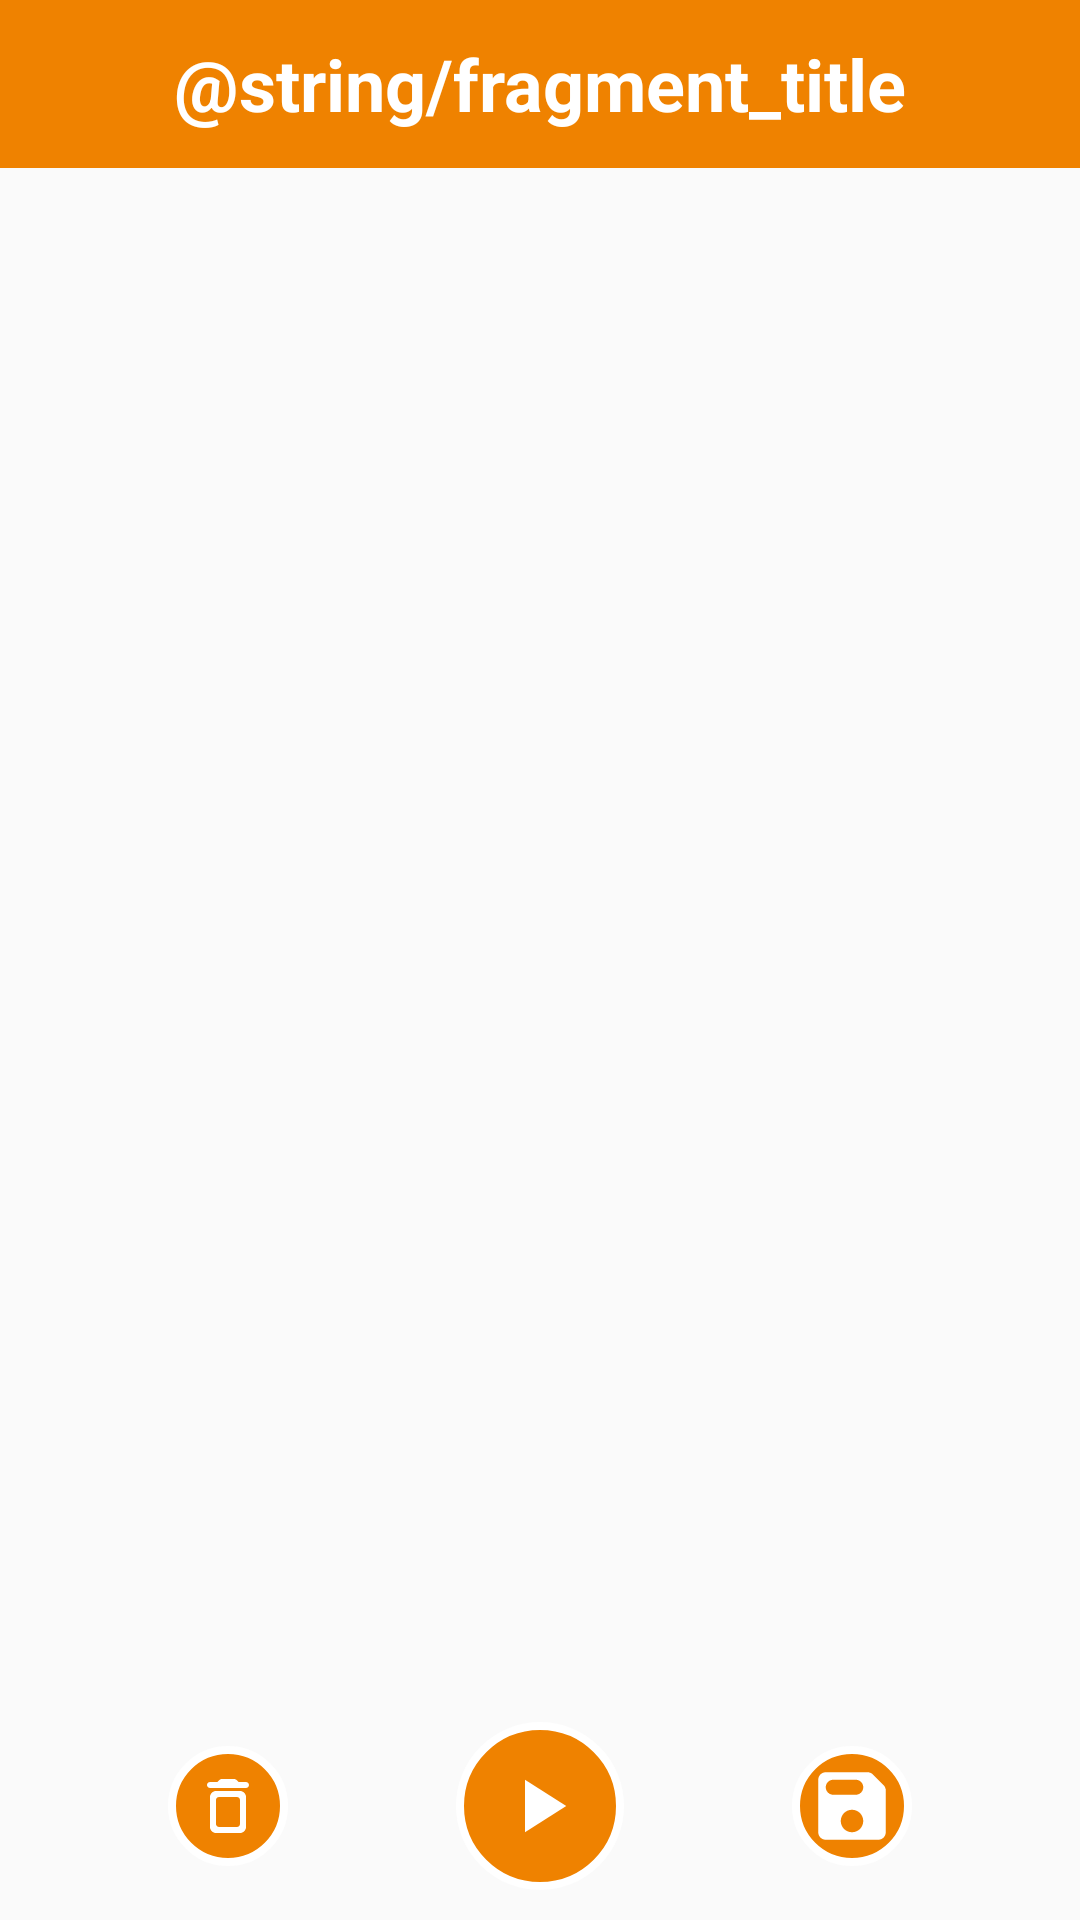

Screen size 1080px x 1920px. Icon name, then its box in pixels as (x1, y1, x2, y2):
delete: (176, 1754, 280, 1858)
play arrow: (464, 1730, 616, 1882)
save: (800, 1754, 904, 1858)
